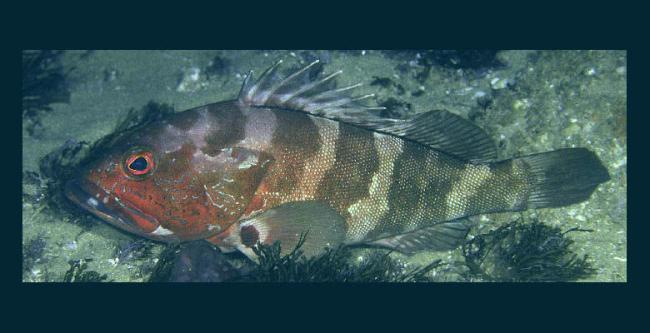fish: (63, 59, 612, 272)
